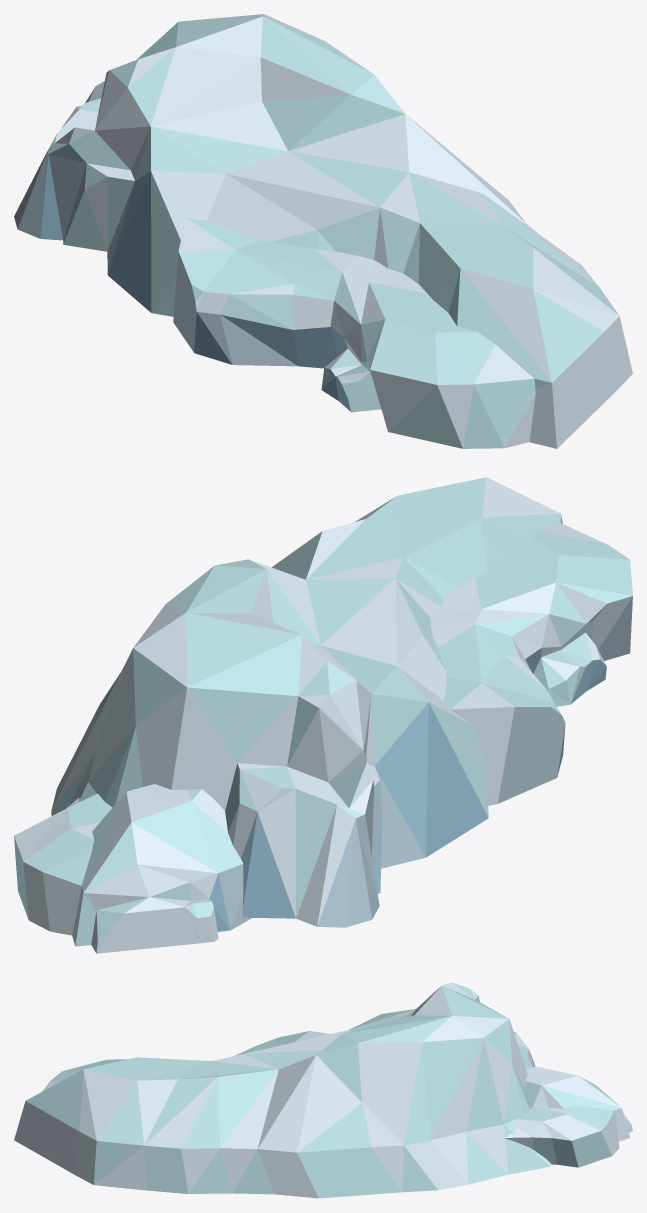
File: Foreground Glacier 1.fbx
3 renders of one model, top to bottom at view 1: azimuth 30°, elevation 25°; view 2: azimuth 150°, elevation 25°; view 3: azimuth 270°, elevation 25°, orthographic. The views are drawn at different scales.
Visible parts, largest first — view 1: North Glacier; view 2: North Glacier; view 3: North Glacier.
Boxes of the visible parts, bbox=[...] form: North Glacier: bbox=[14, 14, 632, 448]; North Glacier: bbox=[14, 477, 632, 953]; North Glacier: bbox=[14, 982, 632, 1198].
Size of the model in its own units: 20287 by 10574 by 44711.
